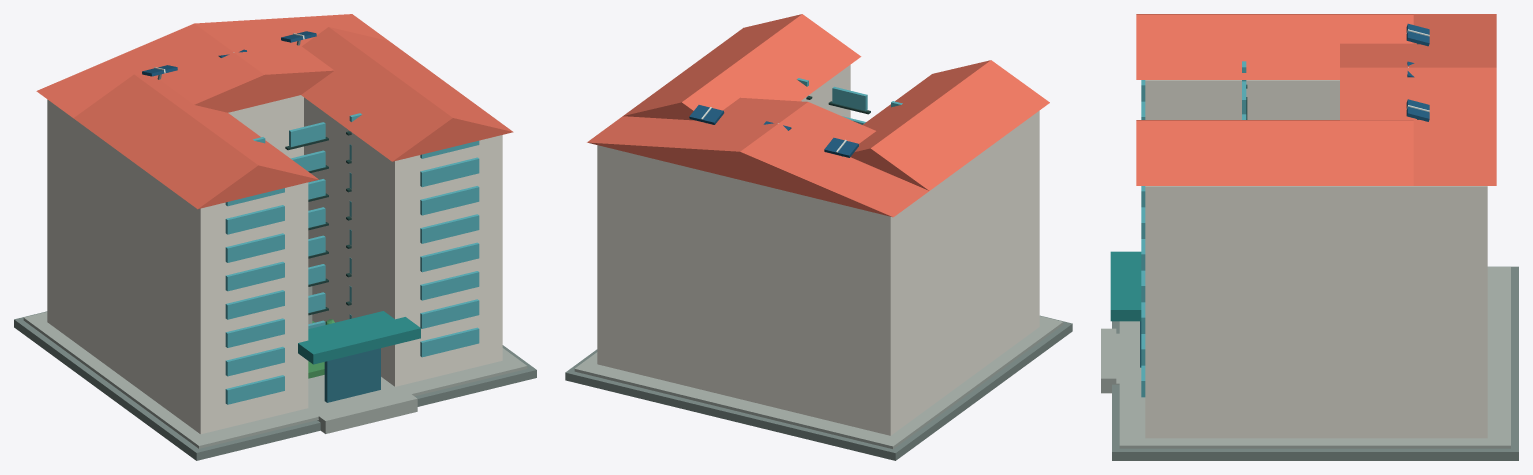
File: university_lv3.glb
The picture shows the model from 3 angles, left to right: view 1: azimuth 30°, elevation 25°; view 2: azimuth 150°, elevation 25°; view 3: azimuth 270°, elevation 25°; orthographic projection. The views are drawn at different scales.
Parts seen in each view (by area): view 1: ivory, coral, glass, concrete, pavement, teal, glassDark, dark, solar; view 2: ivory, coral, concrete, pavement, solar, glass; view 3: ivory, coral, concrete, pavement, teal, glass, solar.
Part boxes in pixels (x1,y1,x2,y2): ivory: (47, 95, 502, 434); coral: (36, 14, 513, 209); glass: (225, 113, 479, 404); concrete: (23, 286, 527, 448); pavement: (14, 311, 536, 460); teal: (298, 311, 420, 364); glassDark: (324, 348, 380, 402); dark: (285, 131, 351, 315); solar: (142, 31, 316, 76); ivory: (597, 65, 1039, 435); coral: (587, 14, 1049, 217); concrete: (574, 316, 1063, 448); pavement: (565, 315, 1072, 460); solar: (689, 105, 858, 157); glass: (797, 78, 902, 124); ivory: (1145, 80, 1487, 438); coral: (1136, 14, 1496, 185); concrete: (1101, 267, 1510, 448); pavement: (1112, 266, 1518, 460); teal: (1110, 251, 1141, 321); glass: (1141, 61, 1246, 397); solar: (1406, 23, 1429, 121).
Size of the model in its own units: 9.8 by 7.42 by 9.34.
